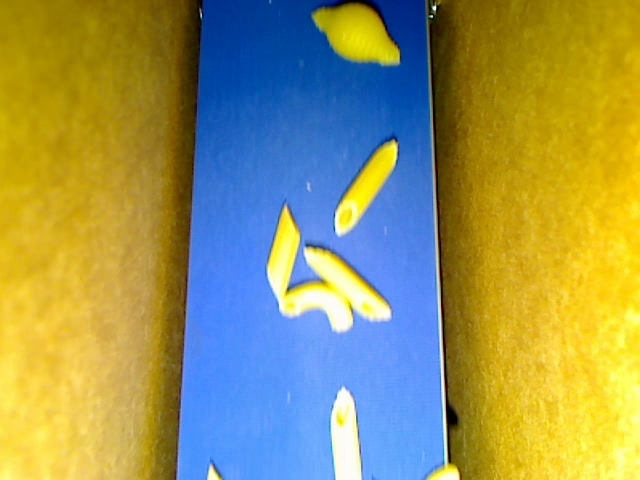elbow: (277, 281, 353, 332)
penne: (303, 247, 391, 322), (332, 140, 397, 237), (266, 200, 302, 303), (329, 385, 361, 479)
shell: (311, 3, 401, 65)
